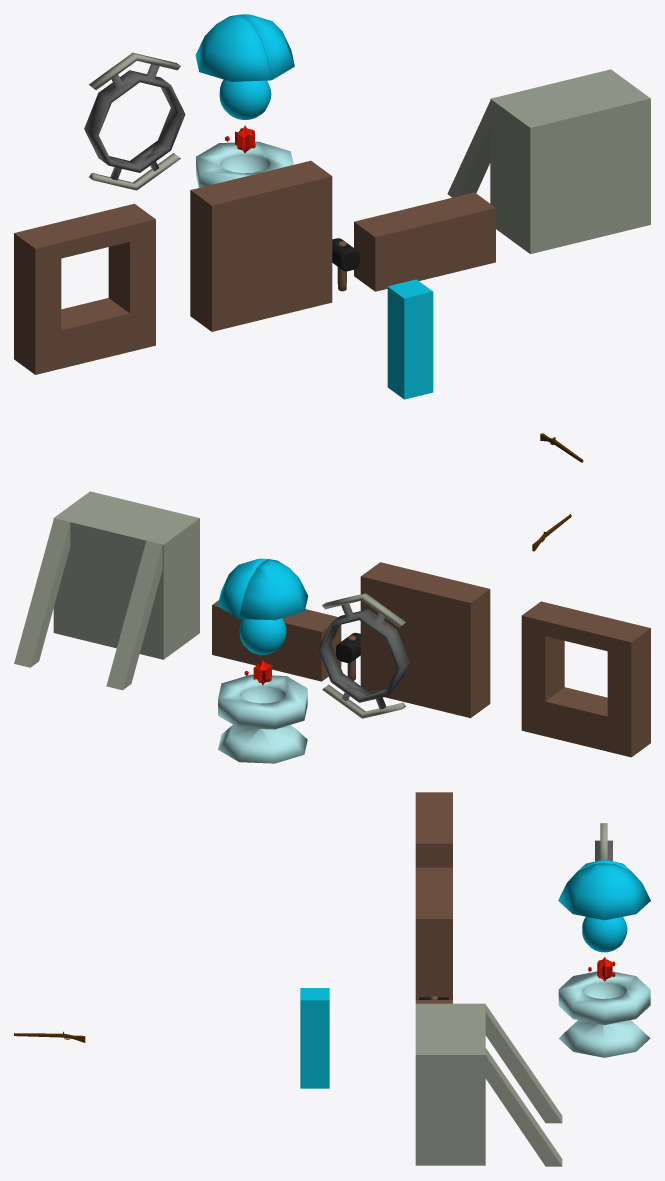
File: Arma.fbx
The picture shows the model from 3 angles, top to bottom: view 1: azimuth 30°, elevation 25°; view 2: azimuth 150°, elevation 25°; view 3: azimuth 270°, elevation 25°; orthographic projection. The views are drawn at different scales.
Visible parts, largest first — view 1: Muro Grueso, Muro Corto, Muro Agujereado, Muro basico, Handler, Player Reference, Cristal, Base, Core, Maso; view 2: Muro Grueso, Muro Corto, Muro Agujereado, Base, Muro basico, Handler, Cristal, Core, Maso; view 3: Muro Grueso, Base, Muro Corto, Cristal, Player Reference, Muro Agujereado, Core.
Boxes of the visible parts, x1,y1,x2,y2 form: Muro Grueso: (447,69,650,253); Muro Corto: (190,160,332,331); Muro Agujereado: (14,203,155,374); Muro basico: (354,192,495,291); Handler: (84,52,185,190); Player Reference: (387,279,433,399); Cristal: (195,14,294,81); Base: (196,141,293,187); Core: (219,79,271,119); Maso: (332,238,359,271); Muro Grueso: (14,491,199,690); Muro Corto: (360,562,490,718); Muro Agujereado: (521,601,650,757); Base: (218,674,307,763); Muro basico: (212,600,341,681); Handler: (318,593,410,718); Cristal: (217,558,307,620); Core: (239,618,286,654); Maso: (336,632,360,662); Muro Grueso: (415,1003,562,1166); Base: (558,971,650,1057); Muro Corto: (415,867,452,999); Cristal: (558,859,650,920); Player Reference: (300,988,329,1088); Muro Agujereado: (415,792,452,867); Core: (582,916,627,952).
Size of the model in its own units: 1276 by 497 by 1307.
